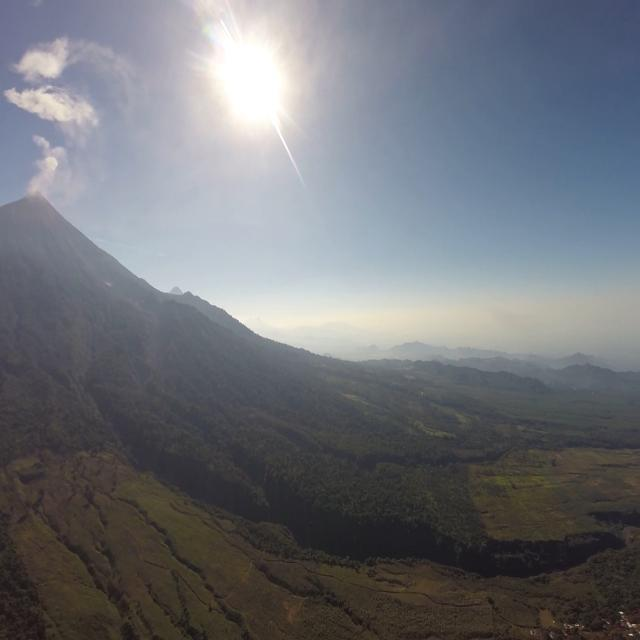Plume: (3, 86, 101, 130), (26, 130, 70, 202), (10, 37, 75, 85)
Summit: (20, 186, 53, 214)
